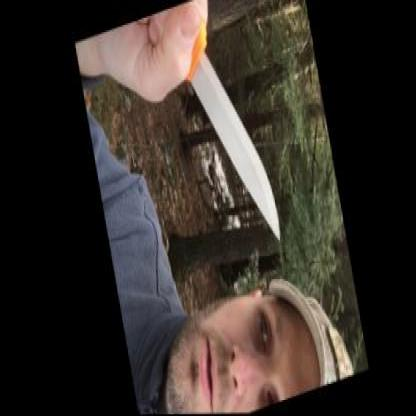knife: (129, 0, 286, 288)
